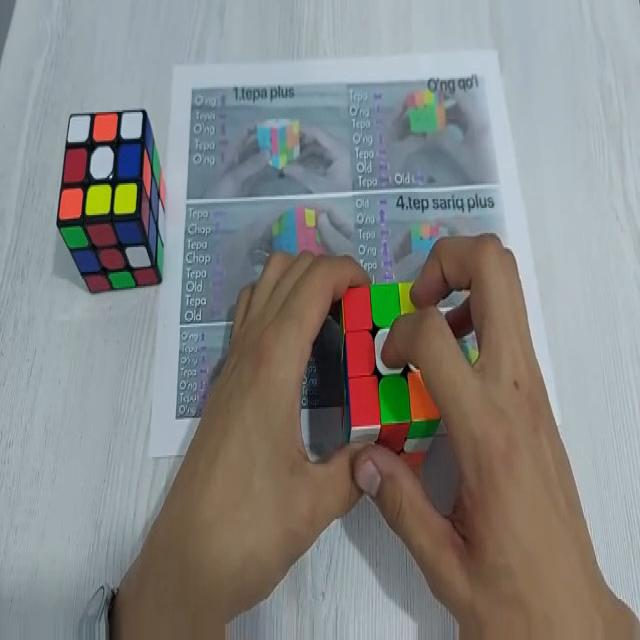Rub: (58, 104, 168, 292), (341, 280, 444, 468)
